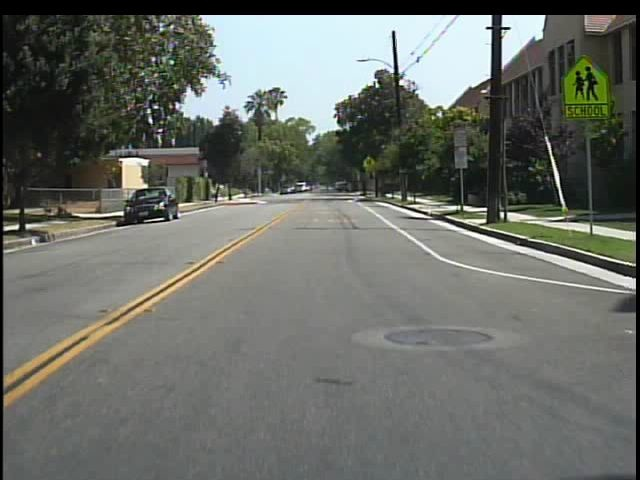person: (320, 178, 334, 196)
